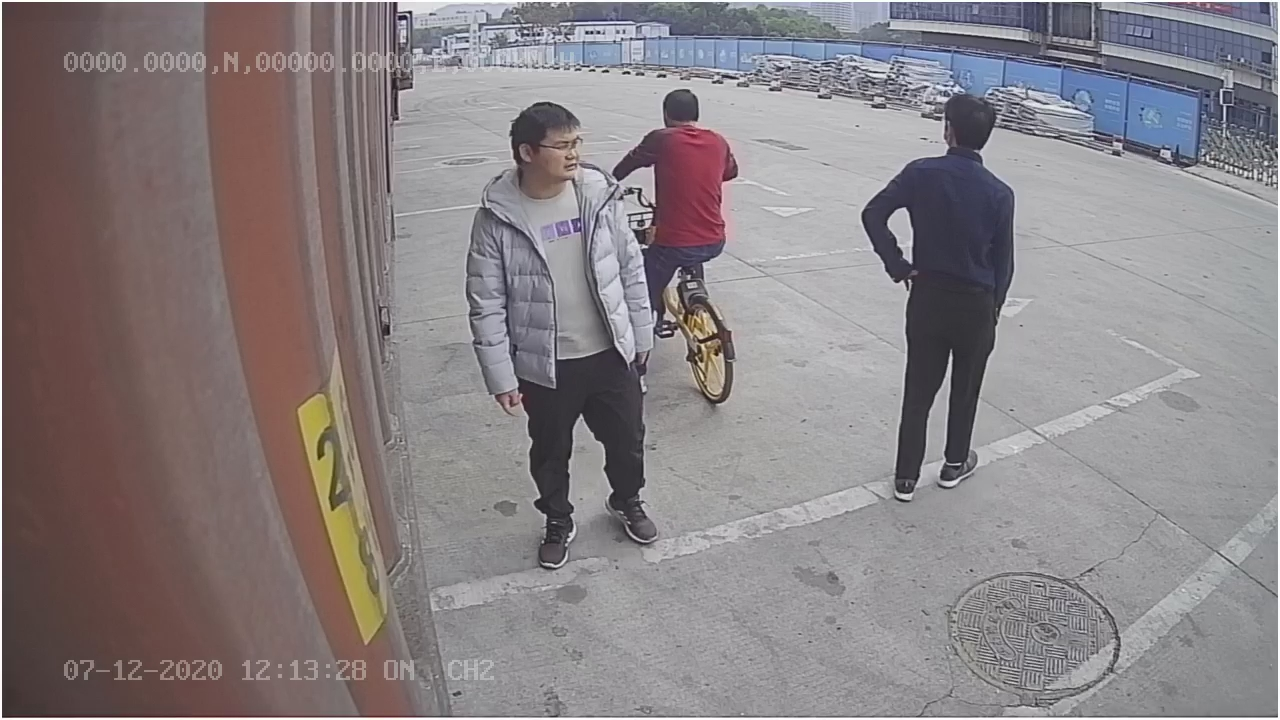person: (858, 80, 1019, 507)
